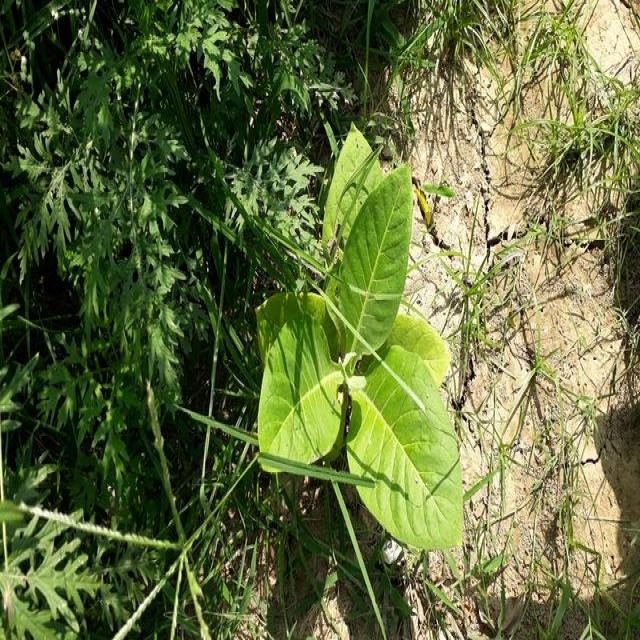crop: (254, 116, 456, 538)
